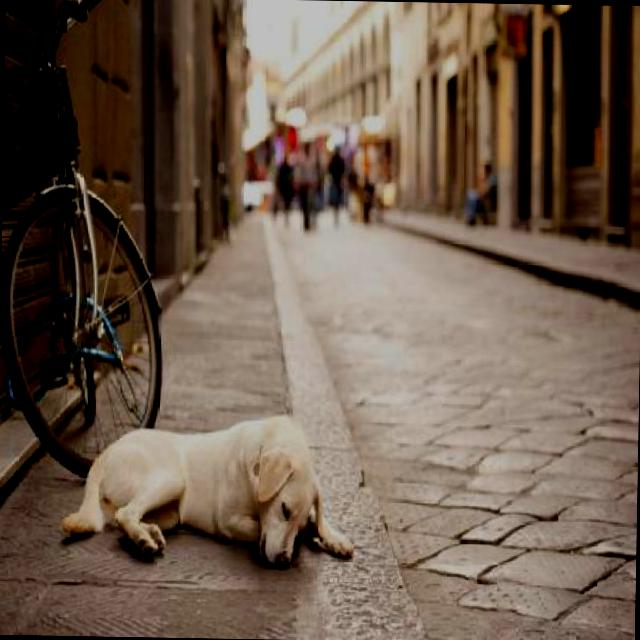Person: (463, 160, 497, 224), (298, 140, 316, 230), (358, 144, 376, 224), (278, 156, 295, 227), (330, 147, 343, 186), (285, 154, 297, 193)
